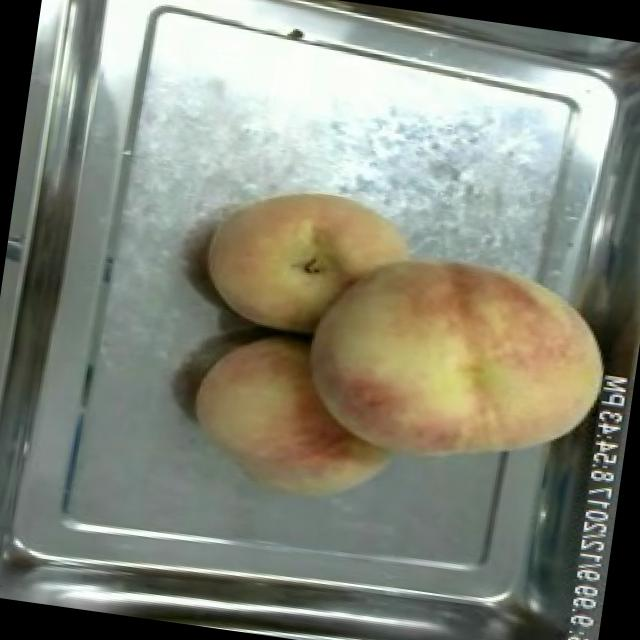Fruit: (290, 225, 630, 492), (178, 314, 405, 518), (191, 166, 428, 358)
